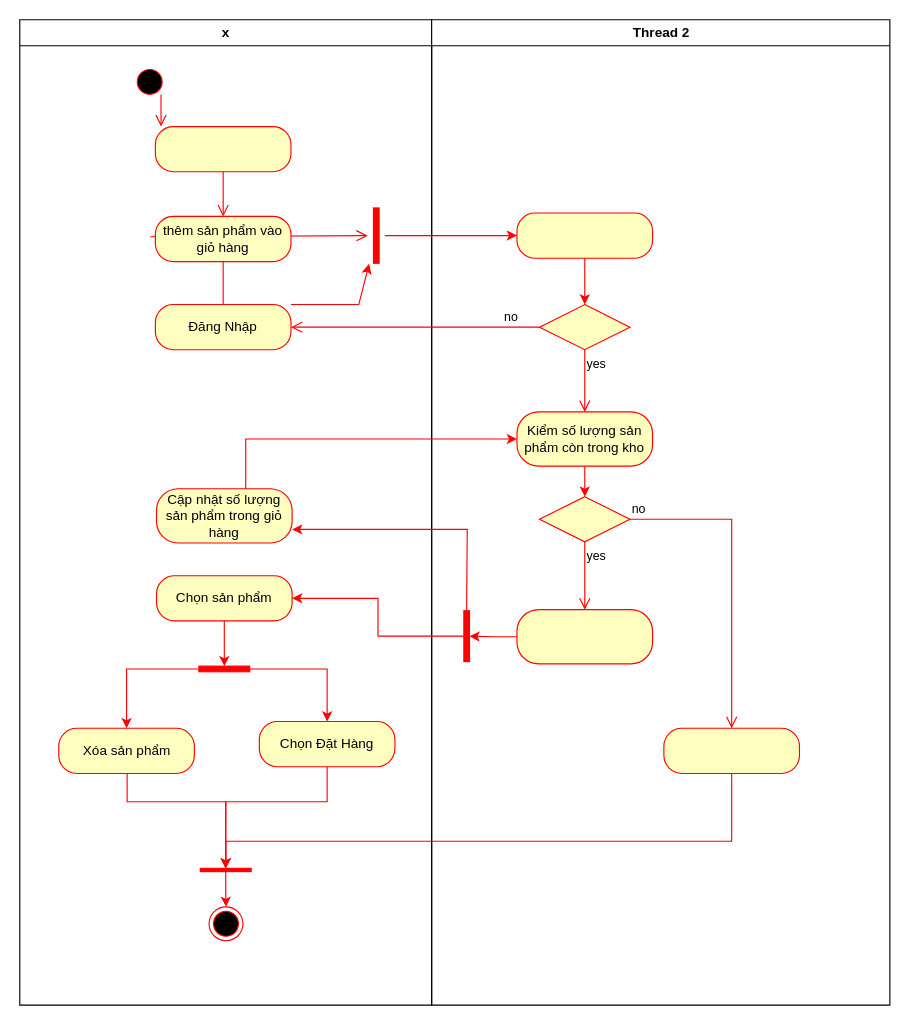
The diagram is 910 pixels wide and 1025 high, and some of its shapes have lost their labels. The shapes that lost their labels are listed below. From the top down, each one's box as (x1, y1, x2, y2) in pixels, then its label:
(154, 125, 291, 172): Tra cứu sản phẩm
(516, 212, 653, 258): Kiểm tra đăng nhập
(516, 609, 653, 664): Hiển thị danh sách sản phẩm trong giỏ hàng
(663, 727, 799, 773): Thông báo hết hàng
